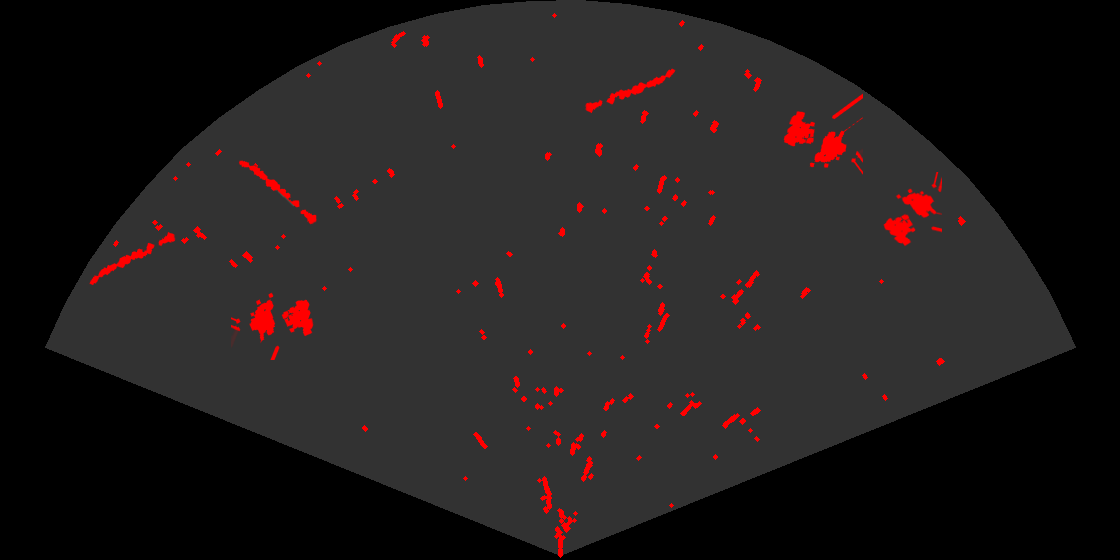cage: (782, 92, 863, 176), (231, 291, 315, 360), (882, 172, 942, 248)
chain: (237, 159, 318, 226), (88, 230, 177, 287), (583, 67, 677, 115)
